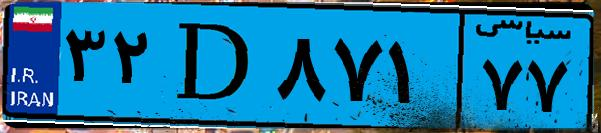1: (385, 28, 445, 110)
2: (110, 28, 158, 98)
3: (57, 26, 110, 100)
7: (330, 28, 385, 110), (475, 38, 525, 113), (525, 38, 570, 115)
8: (270, 28, 330, 110)
D: (158, 12, 270, 120)
